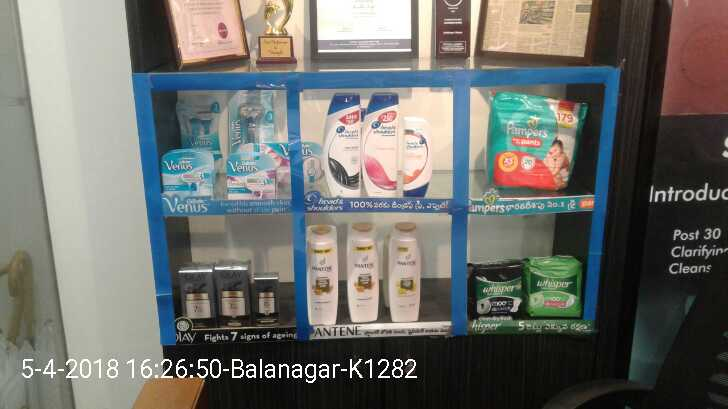venus: (277, 142, 321, 197), (164, 150, 211, 197), (230, 151, 276, 199), (227, 96, 275, 141), (182, 95, 219, 147)
